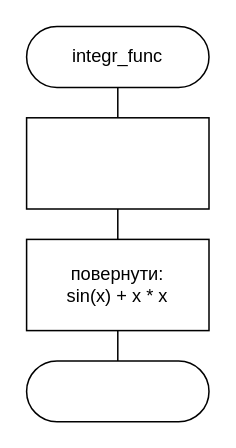
Image size: 236x448. Some labels were removed from this diagram. The shapes that lost their labels are listed below. From the top down, each one's centre as x and y in pixels, then its label:
At pixel 117 162: "отримати аргумент: x".
At pixel 117 390: "ВИХІД".
